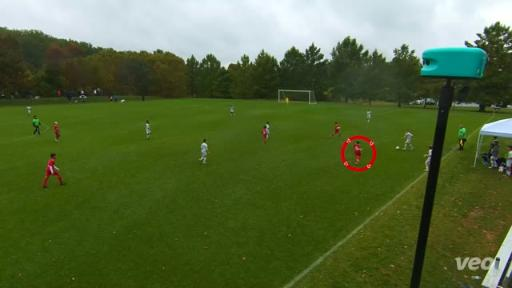highlight_overlay: (341, 135, 377, 171)
